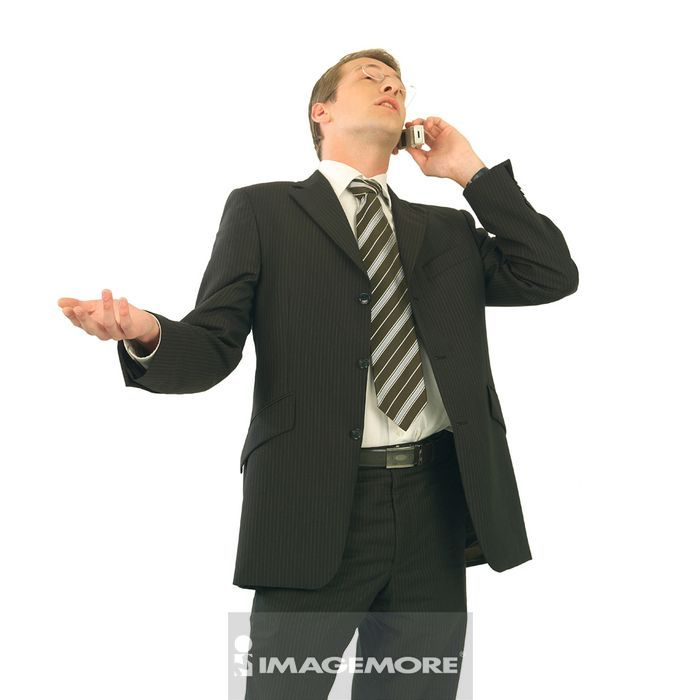talk: (351, 65, 471, 182)
